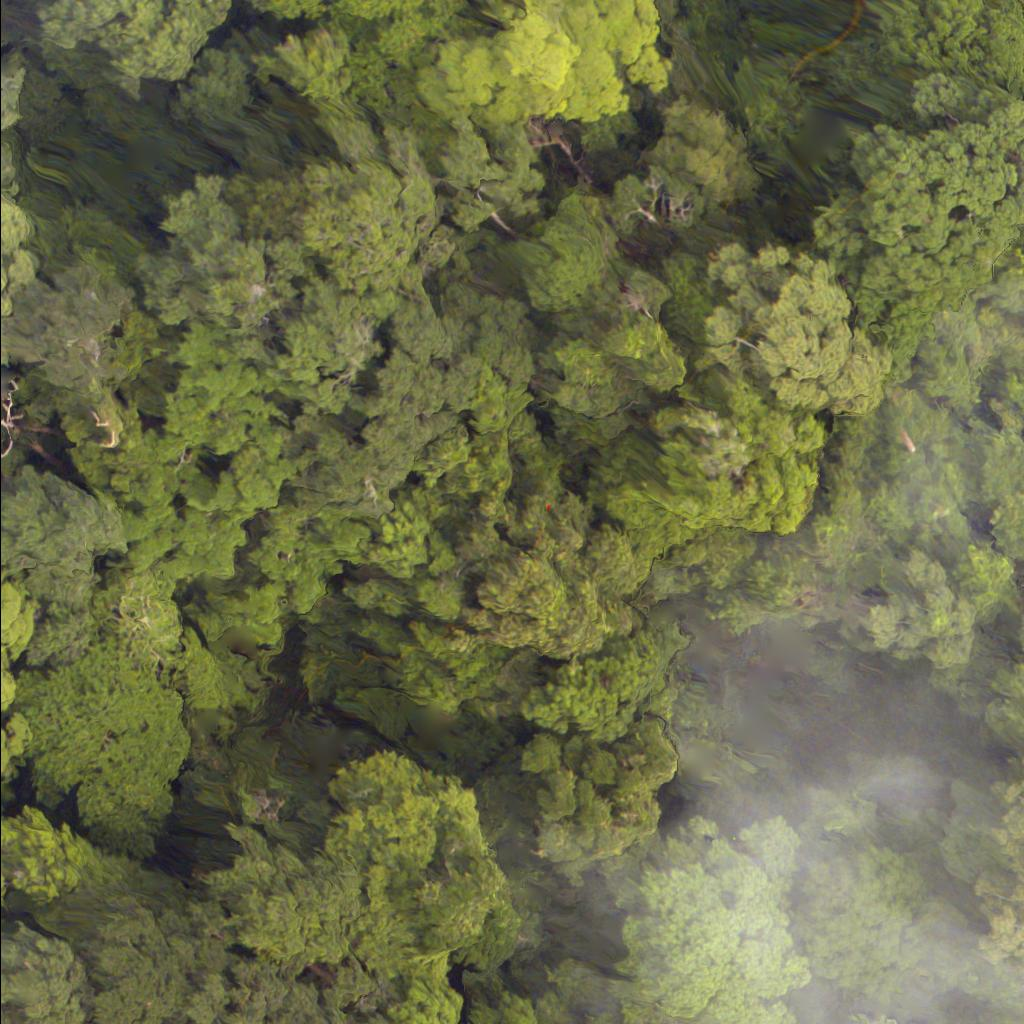crown: (191, 758, 541, 1023), (823, 71, 1023, 373), (428, 0, 713, 140), (919, 753, 1023, 979)
